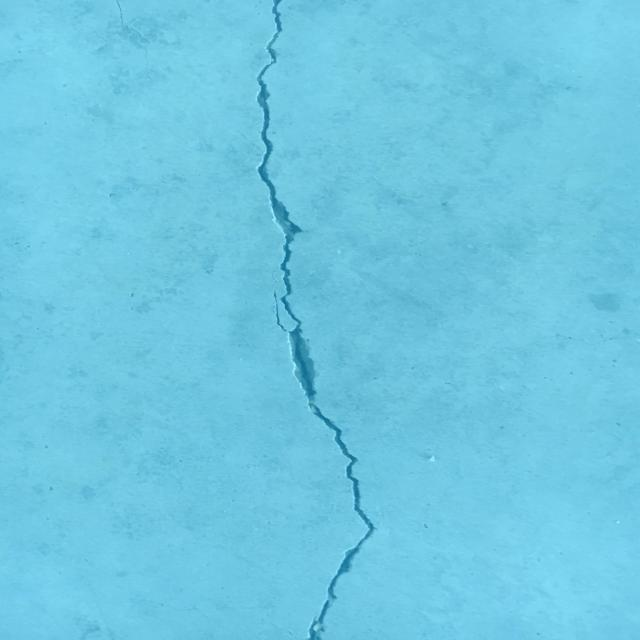crack: (255, 0, 378, 640), (115, 0, 151, 79)
